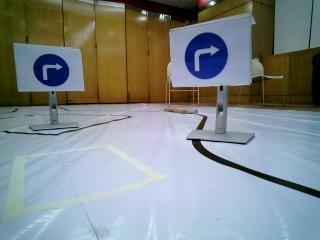right: (170, 24, 246, 82), (18, 44, 82, 88)
